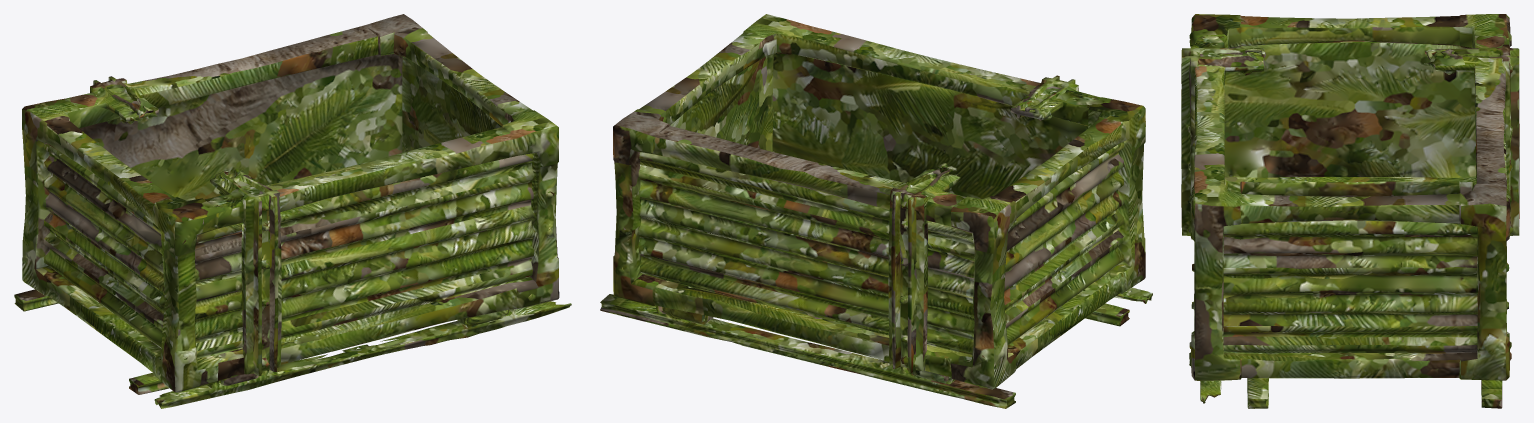
File: IronGate.fbx
3 renders of one model, left to right at view 1: azimuth 30°, elevation 25°; view 2: azimuth 150°, elevation 25°; view 3: azimuth 270°, elevation 25°, orthographic. The views are drawn at different scales.
Visible parts, largest first — view 1: mesh_node; view 2: mesh_node; view 3: mesh_node.
Boxes of the visible parts, <box> form: mesh_node: <box>14,14,571,408</box>; mesh_node: <box>600,14,1152,408</box>; mesh_node: <box>1181,14,1519,408</box>.
Size of the model in its own units: 1.98 by 0.9211 by 1.39.
